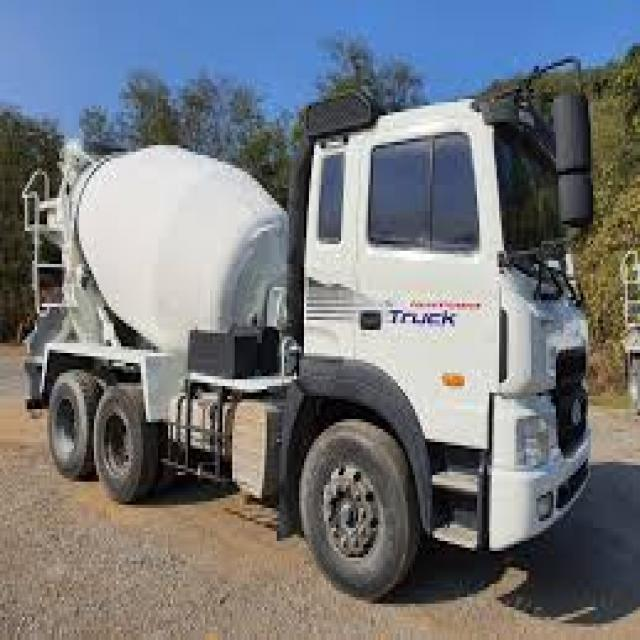Mixer Truck: (21, 54, 595, 606)
